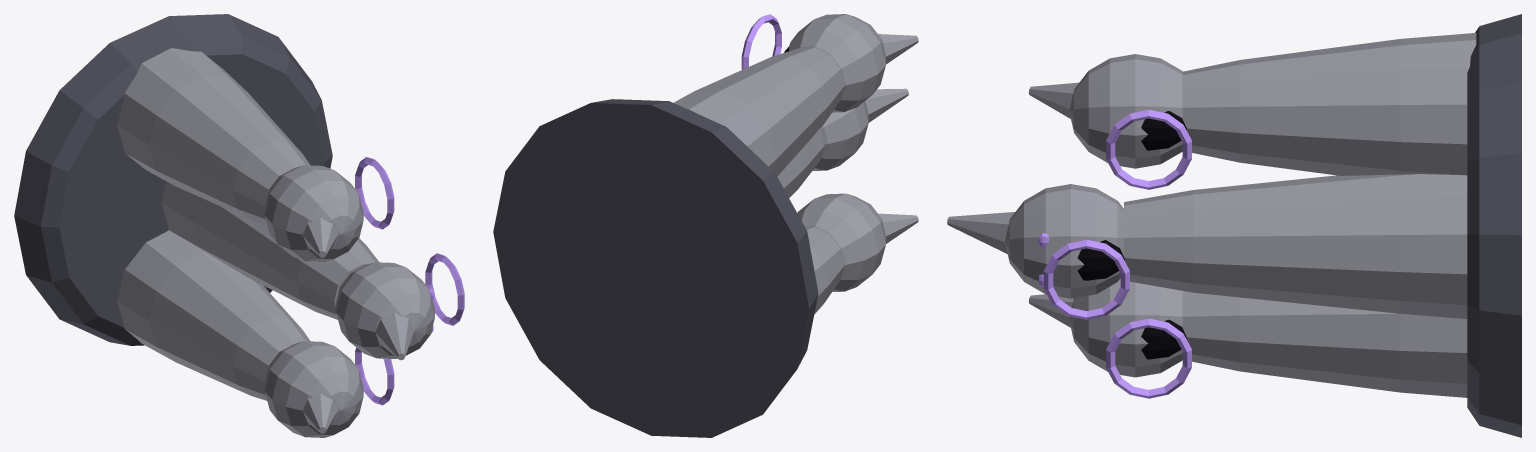
The model's file is CoroHueco.obj.
3 renders of one model, left to right at view 1: azimuth 30°, elevation 25°; view 2: azimuth 150°, elevation 25°; view 3: azimuth 270°, elevation 25°, orthographic. The views are drawn at different scales.
Visible parts, largest first — view 1: CoroHueco; view 2: CoroHueco; view 3: CoroHueco.
Part boxes in pixels (x1=…): CoroHueco: x1=14, y1=14, x2=464, y2=437; CoroHueco: x1=493, y1=14, x2=918, y2=437; CoroHueco: x1=947, y1=14, x2=1521, y2=437.
Size of the model in its own units: 140 by 140 by 190.
